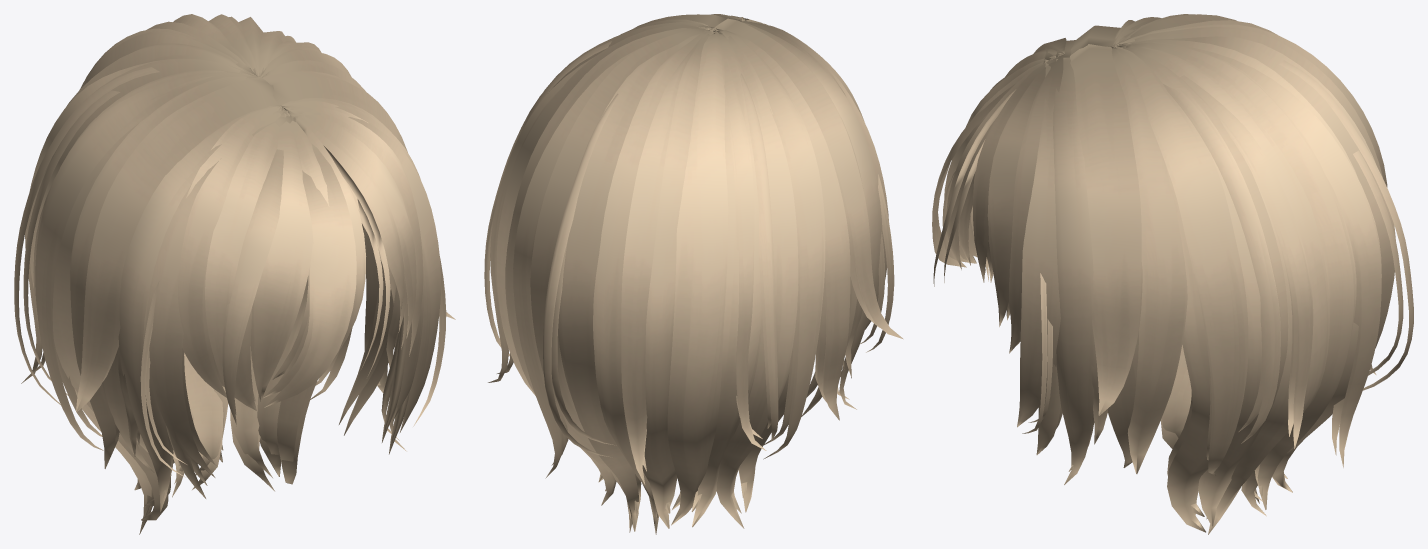
Rendered from hairstyle.glb.
3 views of the same model, side by side, from view 1: azimuth 30°, elevation 25°; view 2: azimuth 150°, elevation 25°; view 3: azimuth 270°, elevation 25° (orthographic). The views are drawn at different scales.
Parts seen in each view (by area): view 1: Hair001a, Hair001b; view 2: Hair001a, Hair001b; view 3: Hair001a, Hair001b.
Boxes of the visible parts, bbox=[...] form: Hair001a: bbox=[14, 14, 455, 534]; Hair001b: bbox=[23, 90, 423, 516]; Hair001a: bbox=[484, 14, 903, 534]; Hair001b: bbox=[497, 82, 884, 519]; Hair001a: bbox=[932, 14, 1413, 534]; Hair001b: bbox=[942, 119, 1403, 519].
Bounding box in the file's own units: 0.0205 × 0.0251 × 0.0229.
2 materials, 2 textured.
